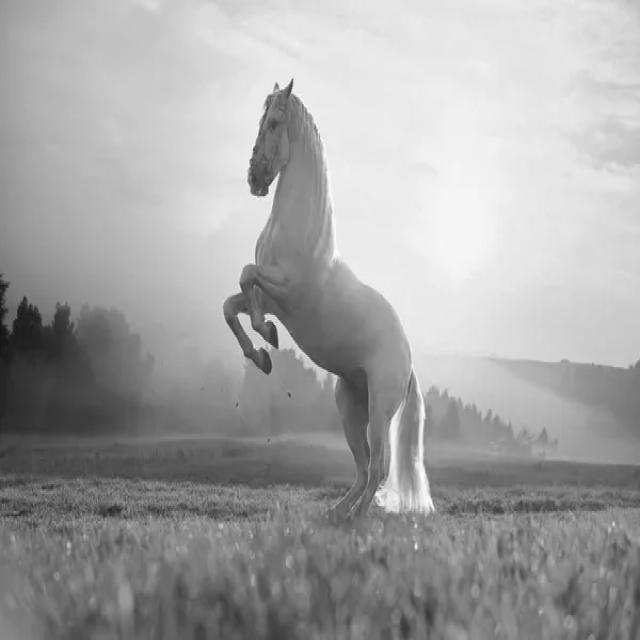Animal: (224, 80, 434, 523)
